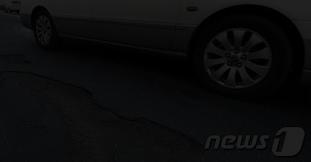pothole: (2, 70, 222, 162), (0, 49, 39, 67)
